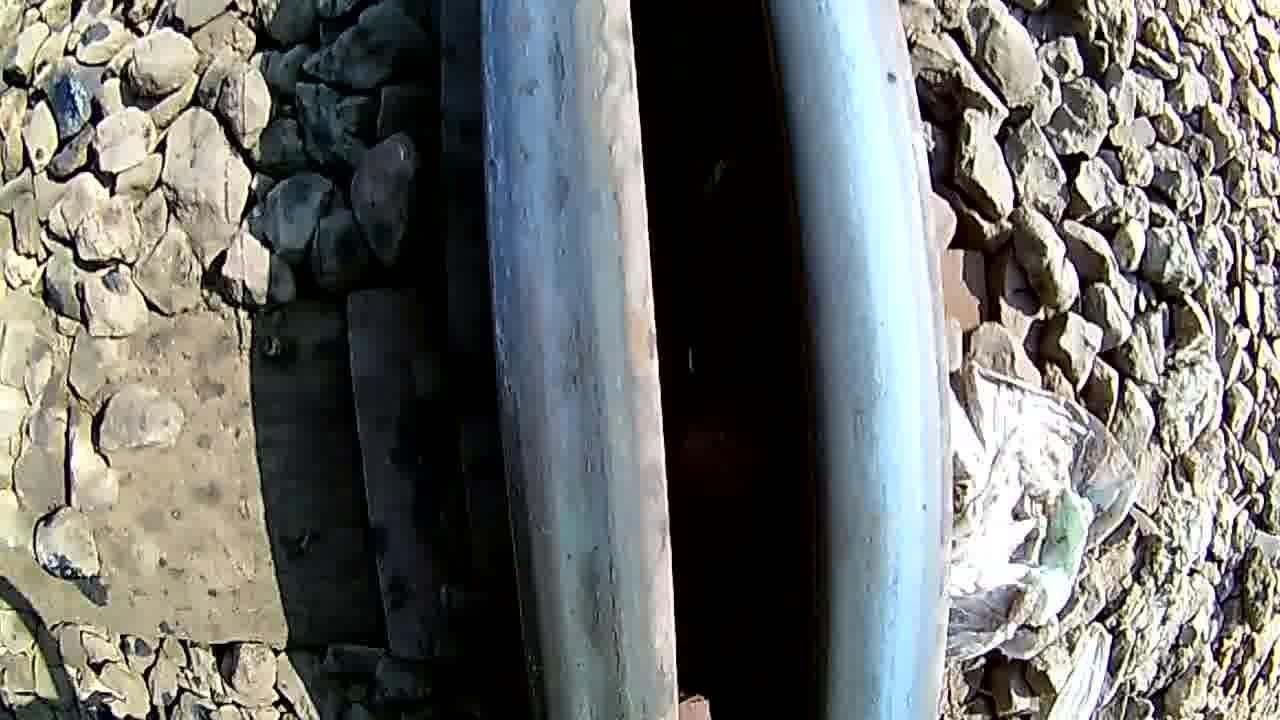crack: (492, 20, 630, 720)
